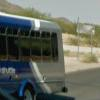Bus: (4, 7, 70, 100)
